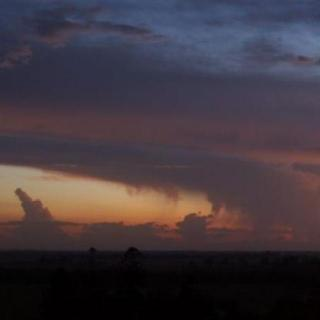Cumulonimbus: (0, 4, 320, 243)
